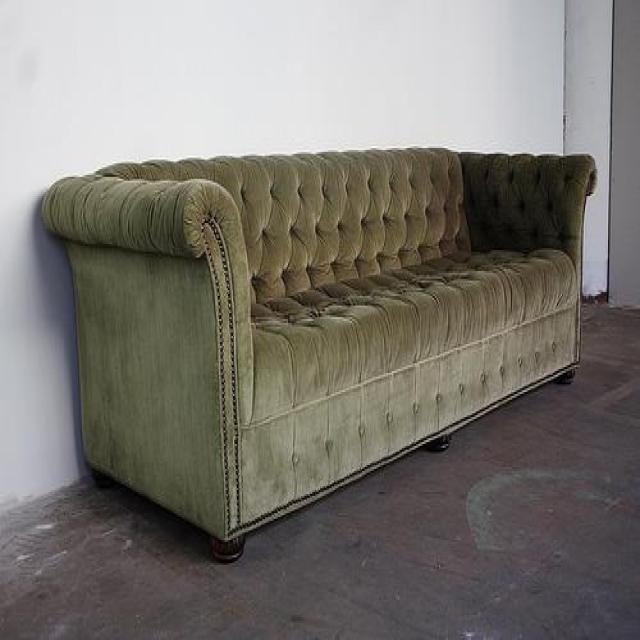sofa: (38, 144, 598, 566)
